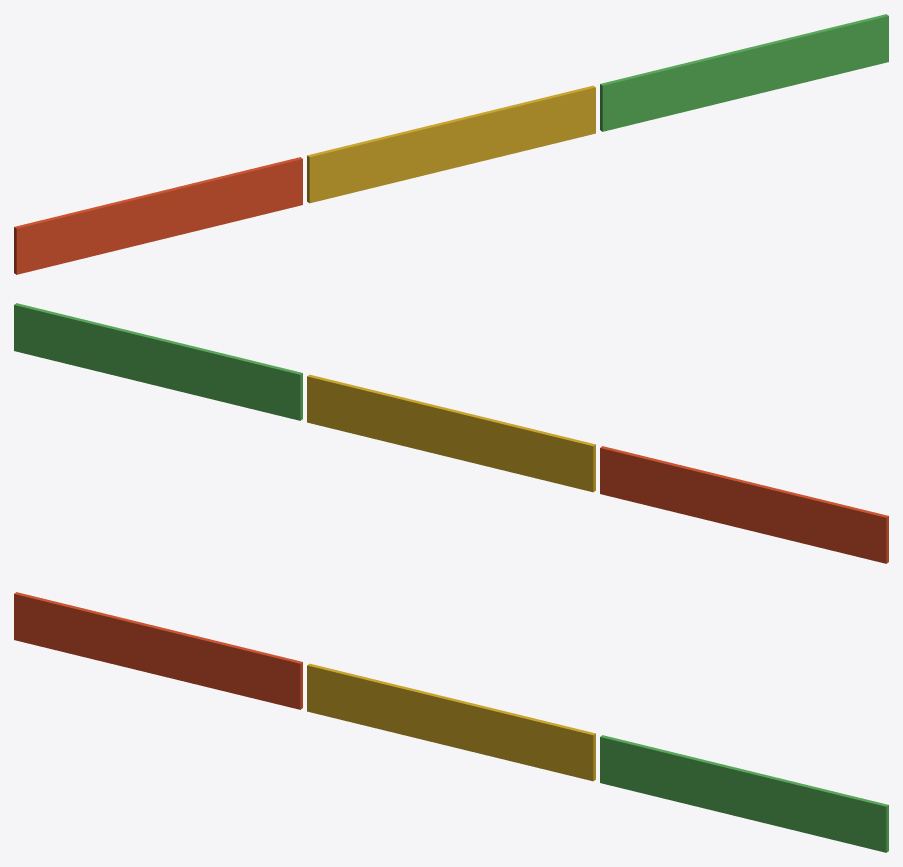
File: flocculation_tank_pressure.glb
The picture shows the model from 3 angles, top to bottom: view 1: azimuth 30°, elevation 25°; view 2: azimuth 150°, elevation 25°; view 3: azimuth 330°, elevation 25°; orthographic projection.
Visible parts, largest first — view 1: pressure__back; view 2: pressure__back; view 3: pressure__back.
Boxes of the visible parts, x1=… form: pressure__back: x1=14, y1=14, x2=888, y2=274; pressure__back: x1=14, y1=303, x2=888, y2=563; pressure__back: x1=14, y1=592, x2=888, y2=852.
Bounding box in the file's own units: 3.96 × 0.2 × 0.02.
